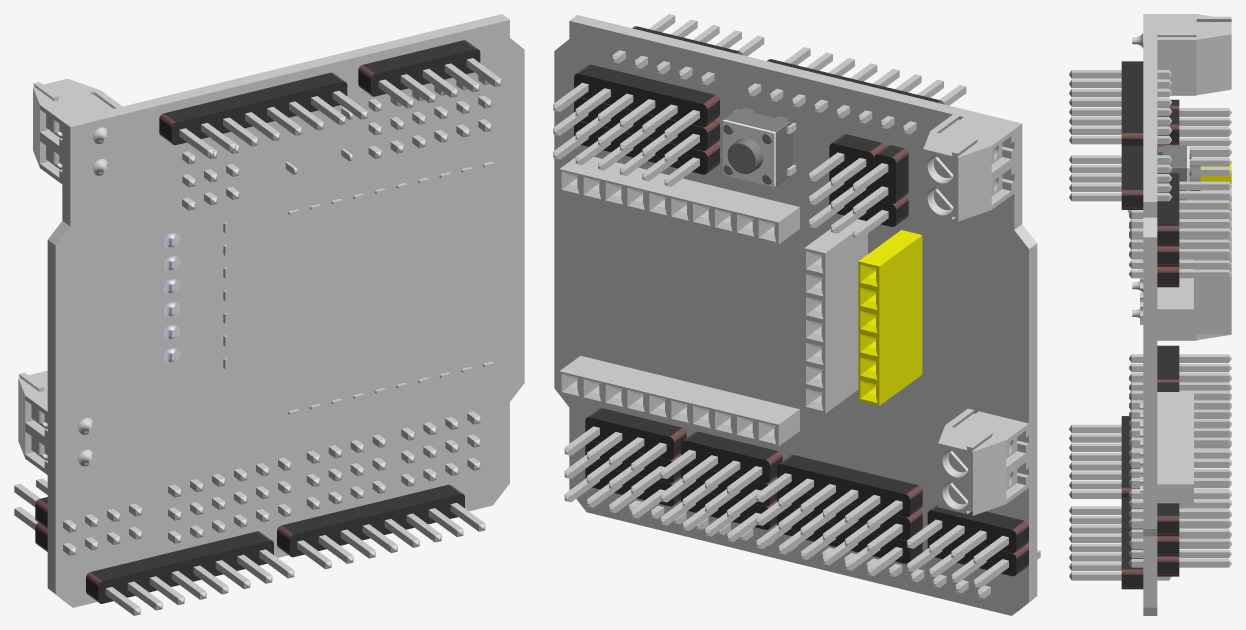
The model's file is sheild-i-o-expension-v7-1-1.snapshot.1.glb.
3 views of the same model, side by side, from view 1: azimuth 30°, elevation 25°; view 2: azimuth 150°, elevation 25°; view 3: azimuth 270°, elevation 25° (orthographic). The views are drawn at different scales.
Parts seen in each view (by area): view 1: Node1, Node8, Node6, Node7; view 2: Node1, Node8, Node5, Node2, Node7, Node3; view 3: Node1, Node8, Node7, Node2, Node5.
Part boxes in pixels (x1=…): Node1: x1=14, y1=14, x2=524, y2=615; Node8: x1=35, y1=40, x2=480, y2=603; Node6: x1=163, y1=233, x2=180, y2=362; Node7: x1=35, y1=40, x2=477, y2=602; Node1: x1=553, y1=14, x2=1040, y2=615; Node8: x1=574, y1=26, x2=1028, y2=576; Node5: x1=858, y1=230, x2=922, y2=405; Node2: x1=723, y1=107, x2=792, y2=186; Node7: x1=576, y1=26, x2=1028, y2=574; Node3: x1=722, y1=119, x2=775, y2=187; Node1: x1=1069, y1=14, x2=1231, y2=615; Node8: x1=1121, y1=61, x2=1179, y2=586; Node7: x1=1121, y1=61, x2=1179, y2=589; Node2: x1=1157, y1=145, x2=1200, y2=200; Node5: x1=1200, y1=163, x2=1231, y2=184.
Bounding box in the file's own units: 54.3 × 53.65 × 18.61.
